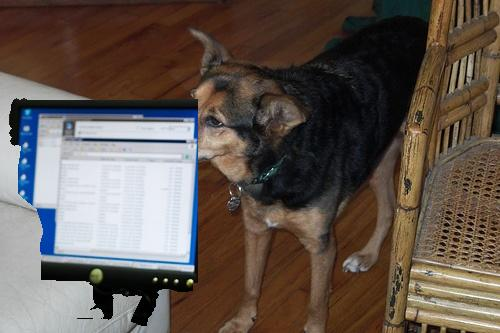tampered: (10, 99, 198, 326)
